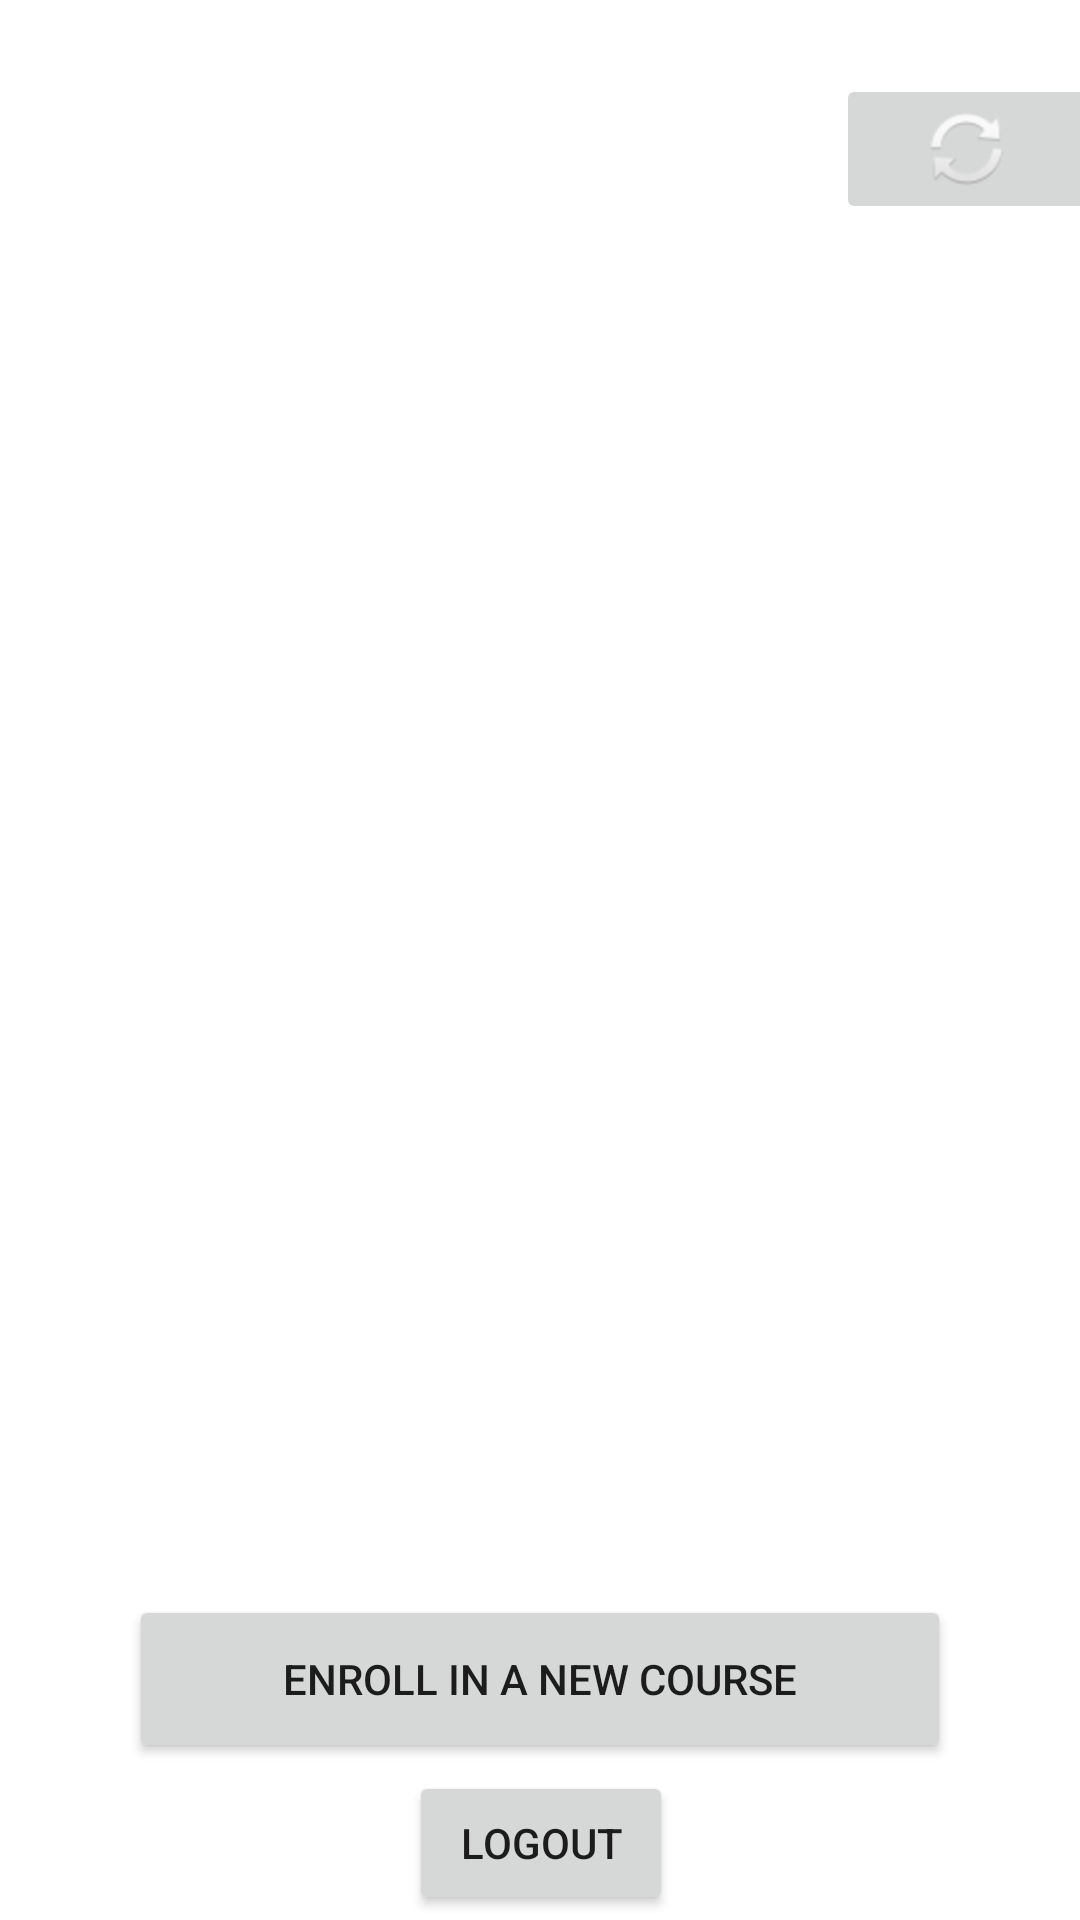

Screen size 1080×1920. Icon name, then its box in pixels as (x1, y1, x2, y2):
popup sync: (848, 92, 1080, 206)
